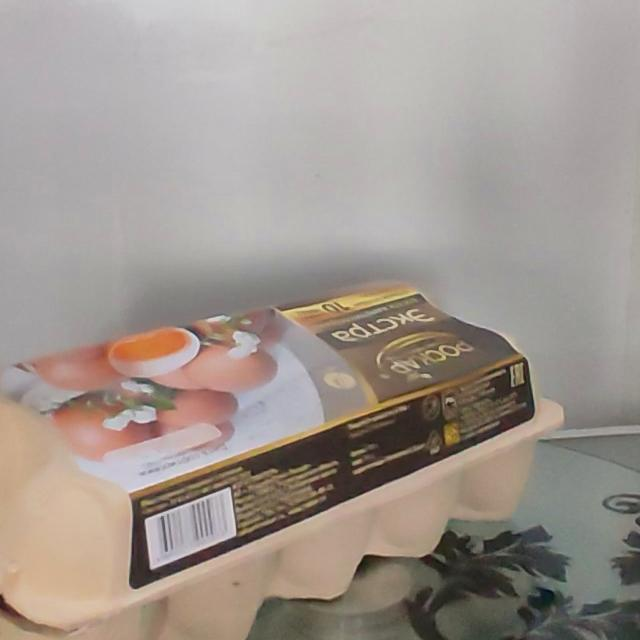egg: (0, 266, 566, 640)
